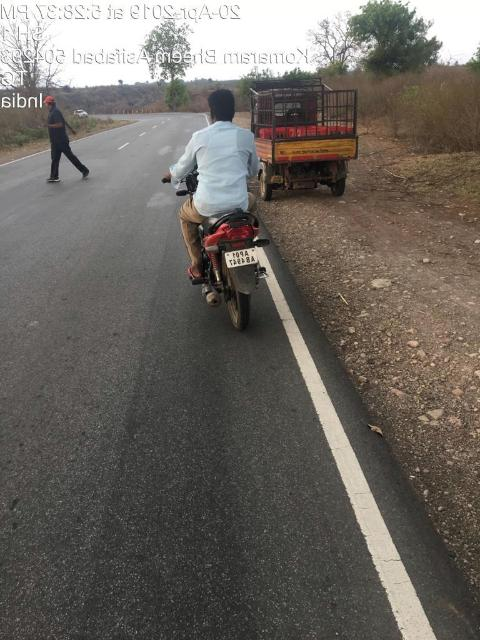motor: (161, 163, 273, 333)
non-helm: (205, 87, 239, 127)
